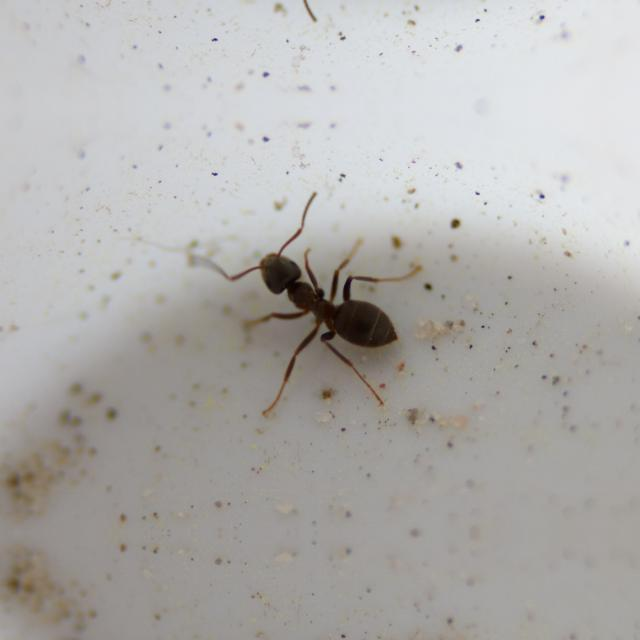Lasius: (223, 210, 425, 386)
